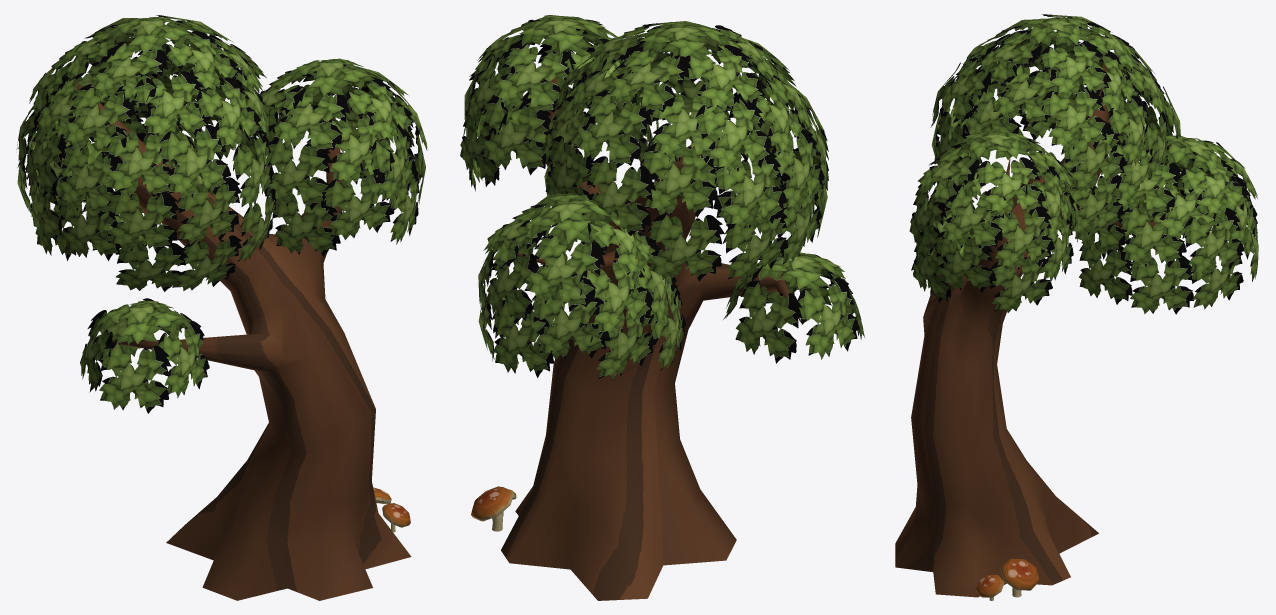
Rendered from forest_tree.dae.
3 renders of one model, left to right at view 1: azimuth 30°, elevation 25°; view 2: azimuth 150°, elevation 25°; view 3: azimuth 270°, elevation 25°, orthographic. The views are drawn at different scales.
Parts seen in each view (by area): view 1: Mushroom_2; view 2: Mushroom_2; view 3: Mushroom_2.
Boxes of the visible parts, left/top/right/bottom form: Mushroom_2: left=16, top=15, right=427, bottom=600; Mushroom_2: left=460, top=15, right=864, bottom=600; Mushroom_2: left=895, top=14, right=1258, bottom=600.
Bounding box in the file's own units: 4.15 × 4.09 × 5.99.
4 materials, 4 textured.
